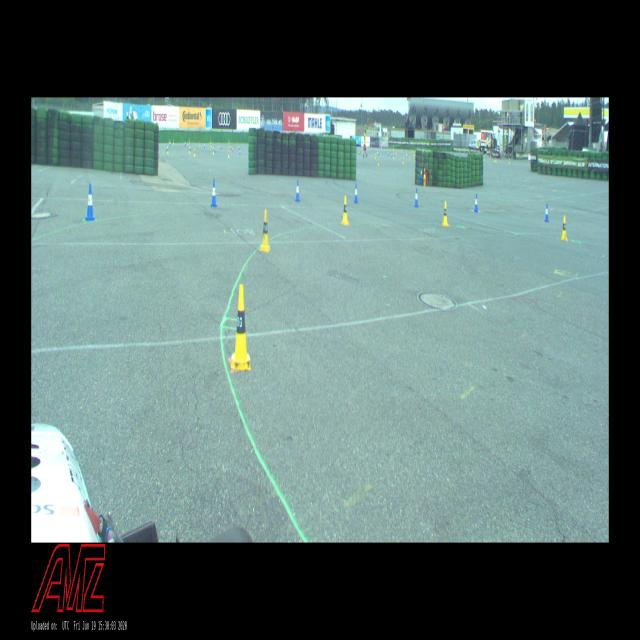blue_cone: (85, 183, 95, 220), (211, 180, 217, 207), (295, 180, 300, 202), (354, 182, 358, 203), (414, 188, 418, 208), (474, 194, 478, 212), (544, 204, 548, 222)
yellow_cone: (231, 285, 251, 370), (260, 209, 270, 252), (342, 196, 348, 224), (442, 201, 448, 226), (561, 216, 567, 240)
